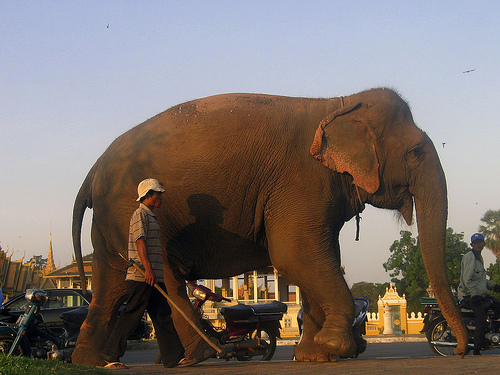elephant: (57, 80, 469, 375)
